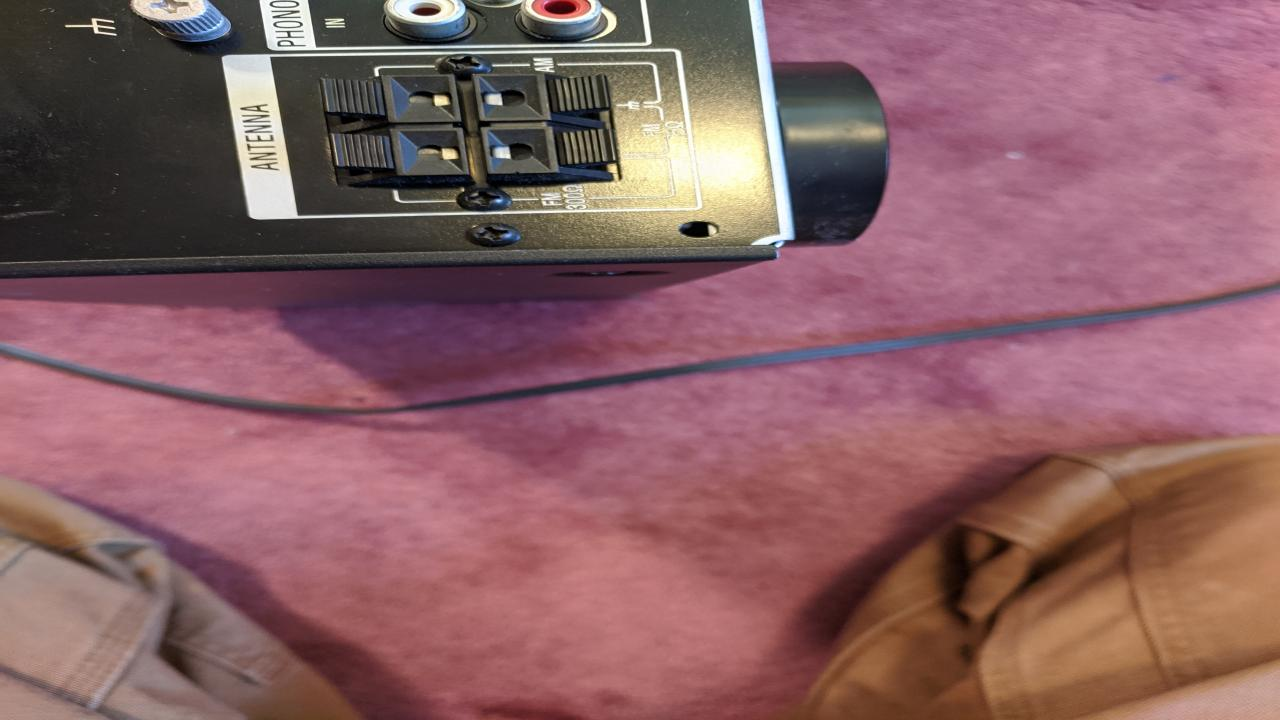CRS: (435, 52, 494, 76), (465, 221, 519, 246), (454, 186, 508, 210)
